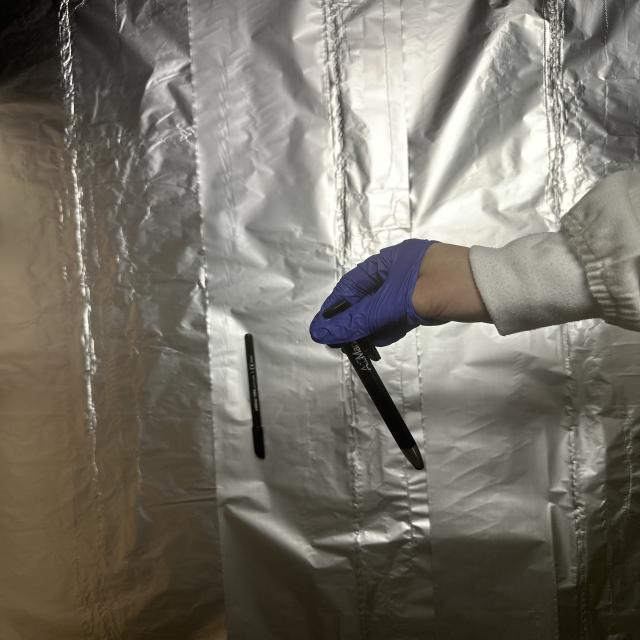glove_partial: (310, 236, 505, 357)
